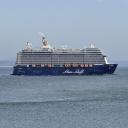cruises: (10, 37, 119, 78)
